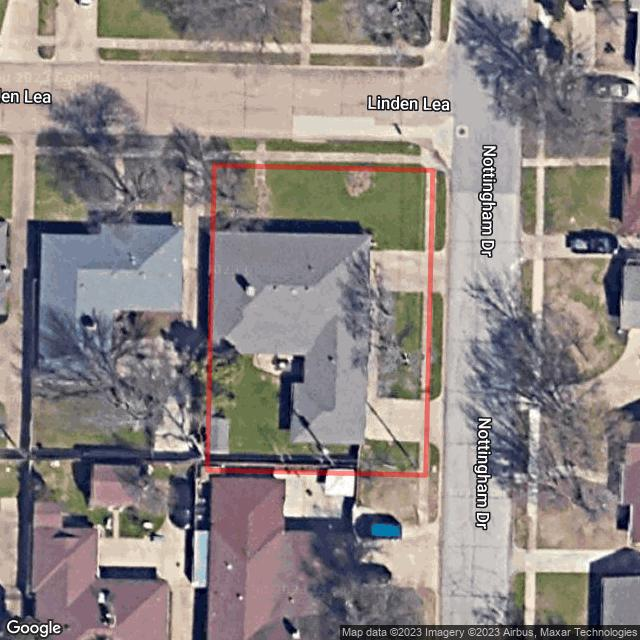Driveway: (364, 396, 425, 442), (369, 248, 428, 292), (255, 169, 274, 218)
Extra Driveway: (432, 245, 446, 298), (429, 394, 441, 451), (254, 139, 269, 164)
Extra Lawn: (264, 139, 421, 155), (429, 292, 442, 401), (265, 160, 426, 168), (435, 170, 447, 251), (213, 137, 257, 151), (428, 442, 440, 477), (212, 159, 255, 164)
Extra Sidewalk: (265, 143, 447, 173), (212, 151, 255, 159)
House: (214, 232, 370, 445)
Other: (254, 354, 292, 377), (211, 418, 229, 453)
Sidewalk: (240, 218, 369, 234), (366, 288, 379, 398), (421, 292, 427, 401), (425, 172, 430, 249), (419, 442, 424, 473)
